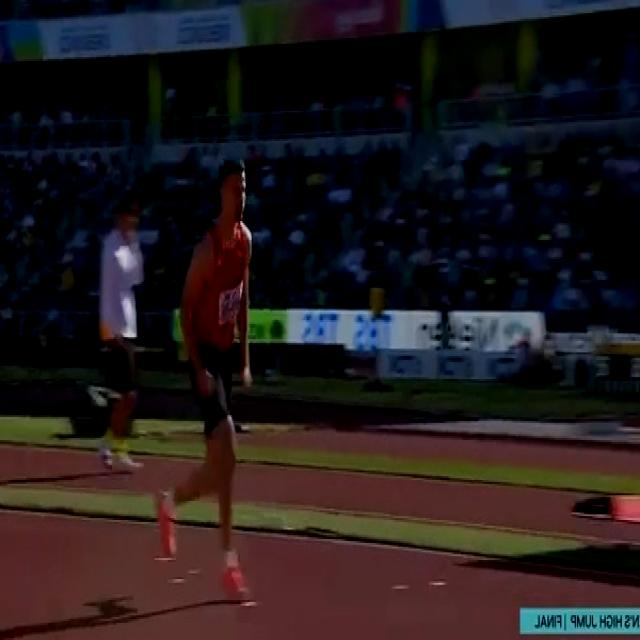run: (156, 163, 260, 610)
